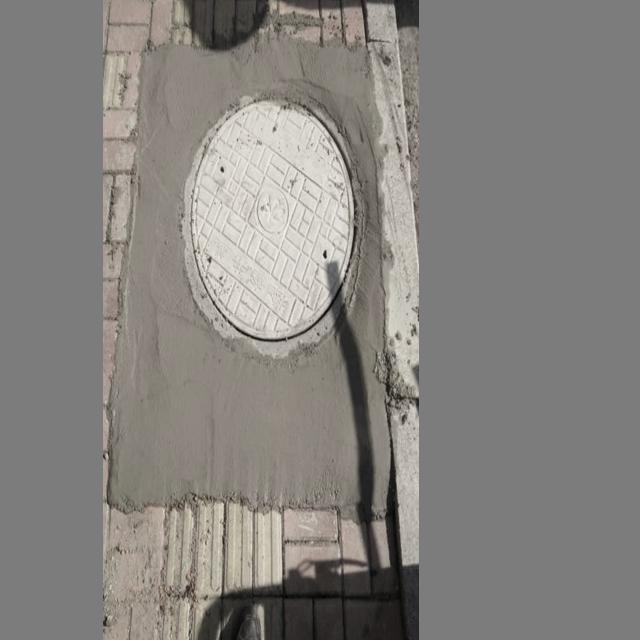good: (143, 54, 382, 485)
